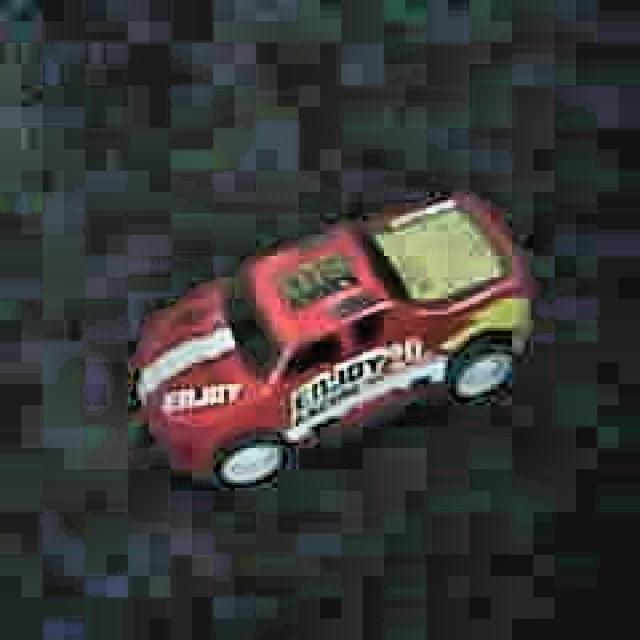car: (124, 190, 538, 499)
